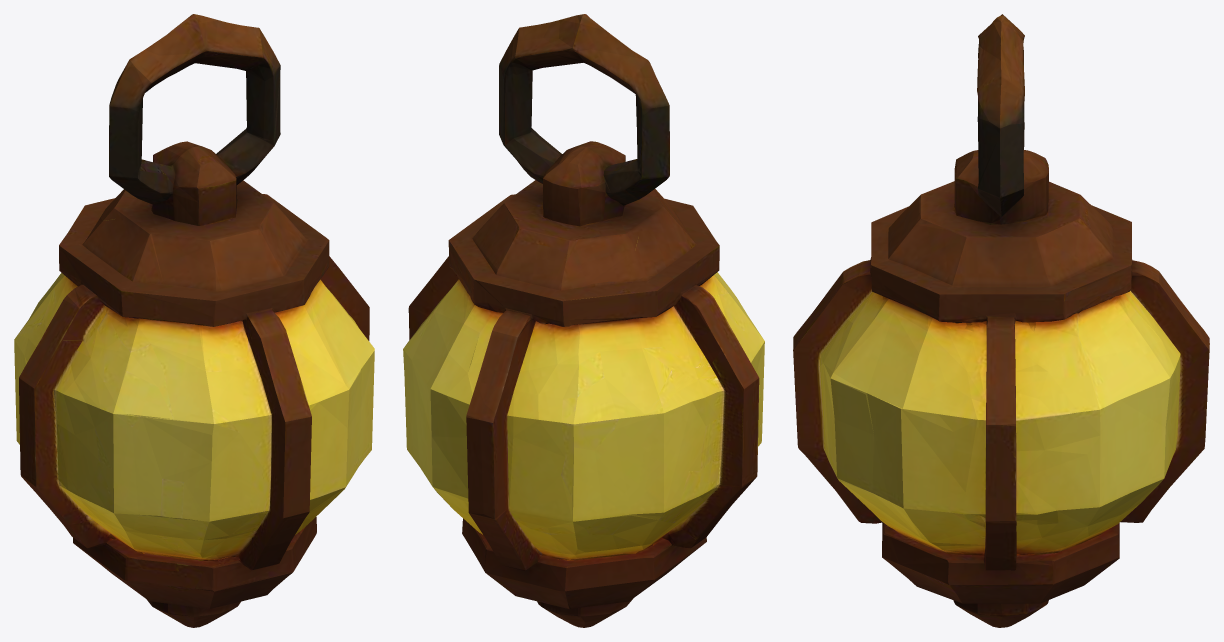
Rendered from d_racines_lanterne.glb.
3 renders of one model, left to right at view 1: azimuth 30°, elevation 25°; view 2: azimuth 150°, elevation 25°; view 3: azimuth 270°, elevation 25°, orthographic.
Parts seen in each view (by area): view 1: geometry_0; view 2: geometry_0; view 3: geometry_0.
Part boxes in pixels (left/top/right/bottom): geometry_0: left=14, top=14, right=374, bottom=627; geometry_0: left=403, top=14, right=764, bottom=627; geometry_0: left=793, top=14, right=1209, bottom=627.
Size of the model in its own units: 0.5779 by 1 by 0.6222.
1 material, 1 textured.
